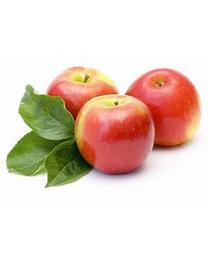apple: (74, 94, 154, 174), (124, 67, 201, 146), (46, 65, 119, 119)
